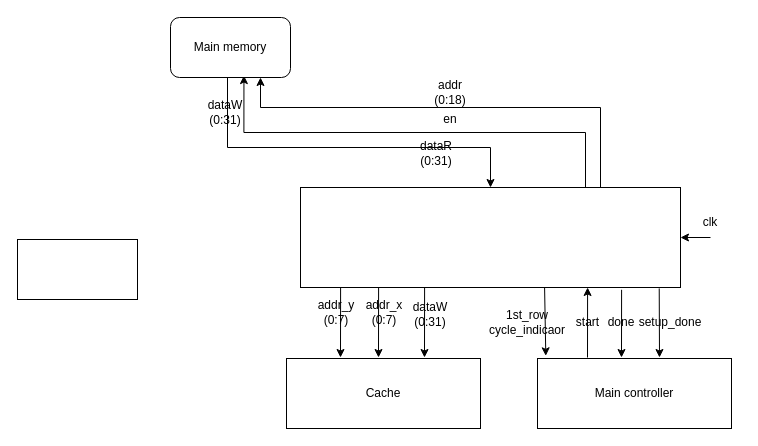
The diagram is 758 pixels wide and 446 high, and some of its shapes have lost their labels. Each missing label, with the centre of its shape:
Fetcher: the point at 490,237
HelloWorld: the point at 77,269
